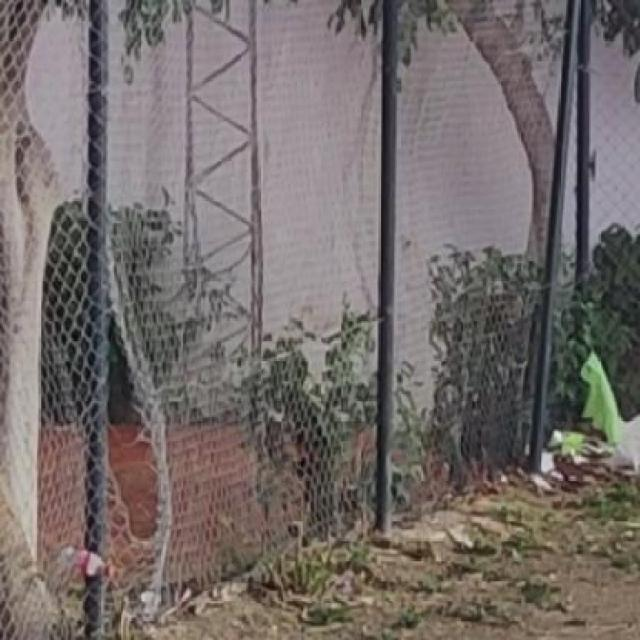fence line: (95, 329, 176, 545)
